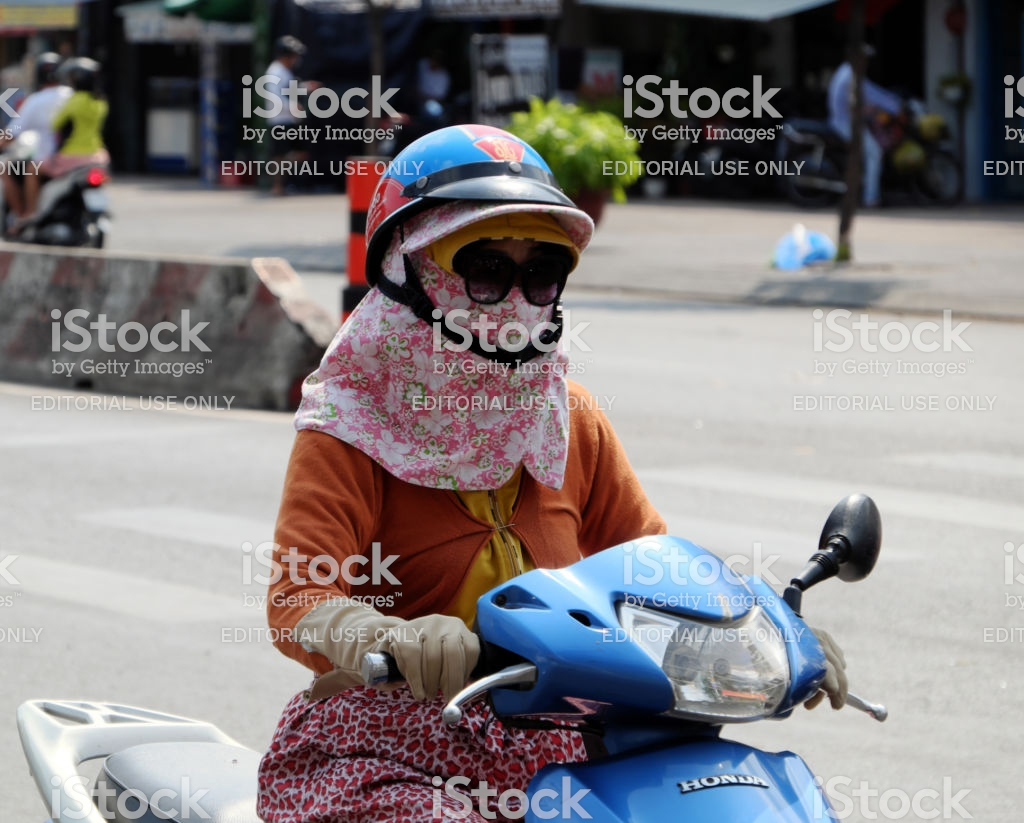helmet: (361, 119, 584, 266)
